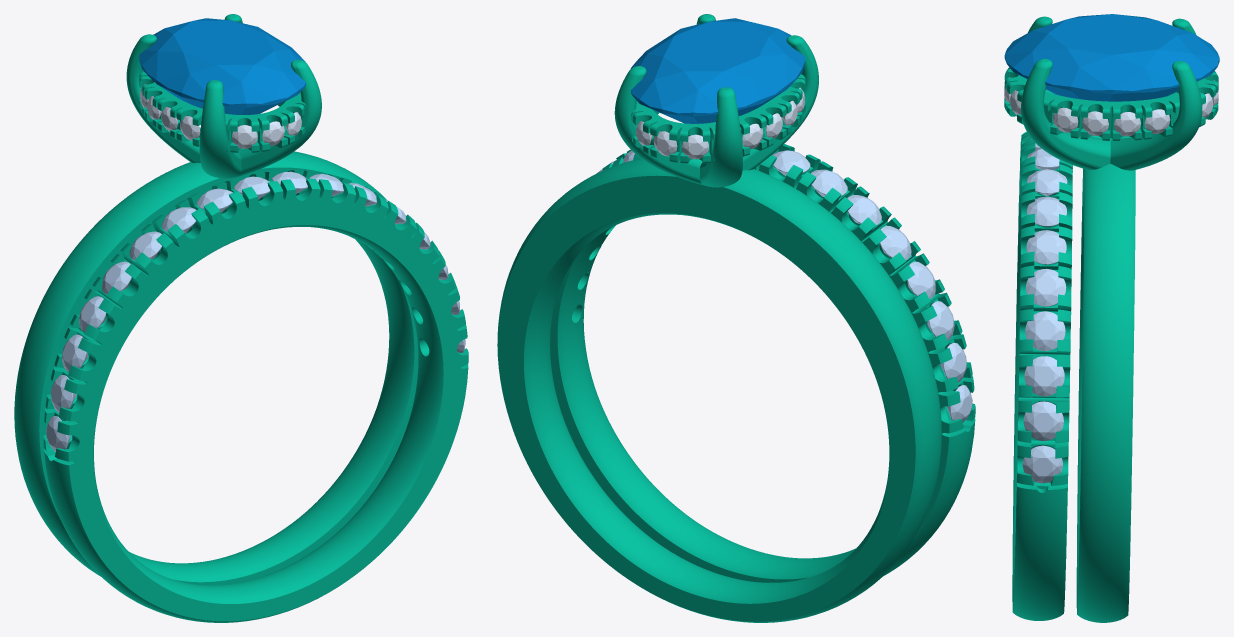
The picture shows the model from 3 angles, left to right: view 1: azimuth 30°, elevation 25°; view 2: azimuth 150°, elevation 25°; view 3: azimuth 270°, elevation 25°; orthographic projection. The views are drawn at different scales.
Parts seen in each view (by area): view 1: LR103 1(front).3dm, Diamond_Oval, Diamond_Round (×4); view 2: LR103 1(front).3dm, Diamond_Oval, Diamond_Round (×6); view 3: LR103 1(front).3dm, Diamond_Oval, Diamond_Round (×13).
Part boxes in pixels (x1,y1,x2,y2): LR103 1(front).3dm: (14,14,468,622); Diamond_Oval: (139,18,305,114); Diamond_Round (×4): (62,231,161,371); LR103 1(front).3dm: (497,14,975,622); Diamond_Oval: (630,18,805,123); Diamond_Round (×6): (811,169,966,382); LR103 1(front).3dm: (1004,16,1218,622); Diamond_Oval: (1004,14,1219,101); Diamond_Round (×13): (1022,107,1170,483).
Bounding box in the file's own units: 2.4 × 3.03 × 1.04.
